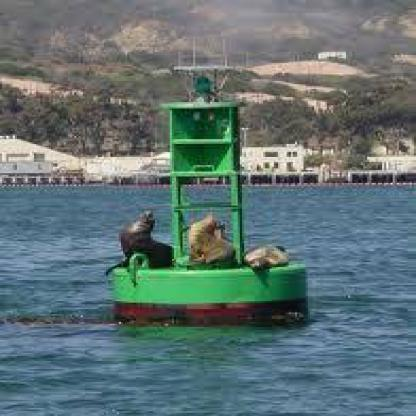buoy: (94, 58, 318, 326)
